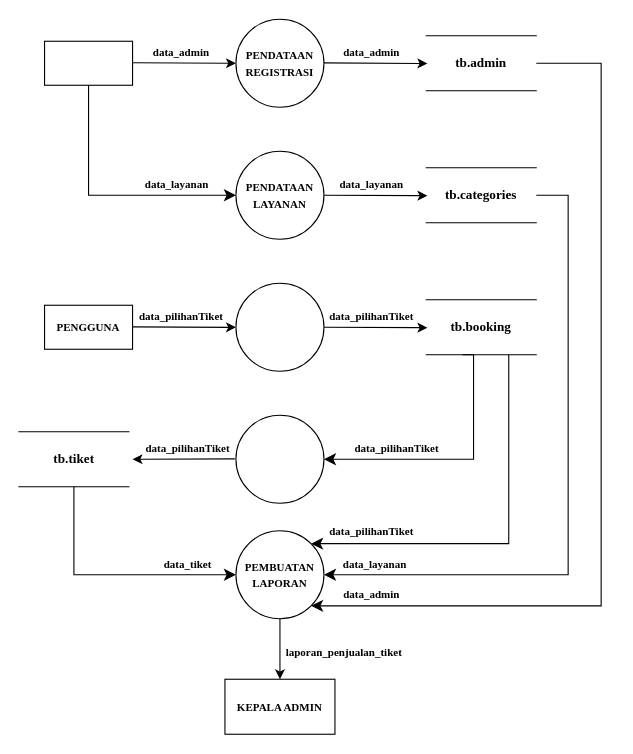
This 633x754 diagram has some shape labels left out. Here are the shapes that lost their labels. From the top down, the centre of each, then its label:
At point 88,62: "ADMIN".
At point 279,326: "PROSES PEMESANAN".
At point 279,458: "MENCETAK STRUK".
